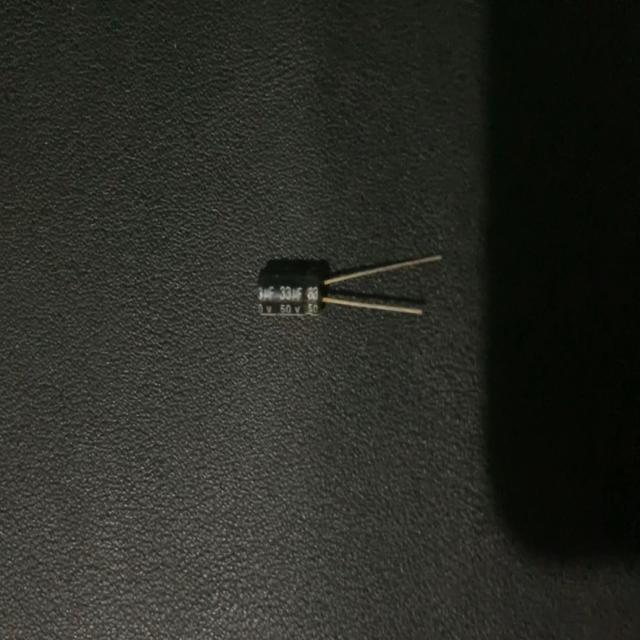capacitor: (254, 248, 446, 327)
